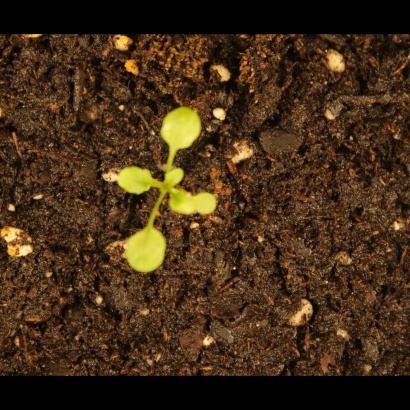leaf: (124, 221, 171, 277), (155, 102, 201, 153), (112, 163, 156, 199), (167, 191, 201, 215), (196, 191, 224, 216), (161, 166, 184, 190)
